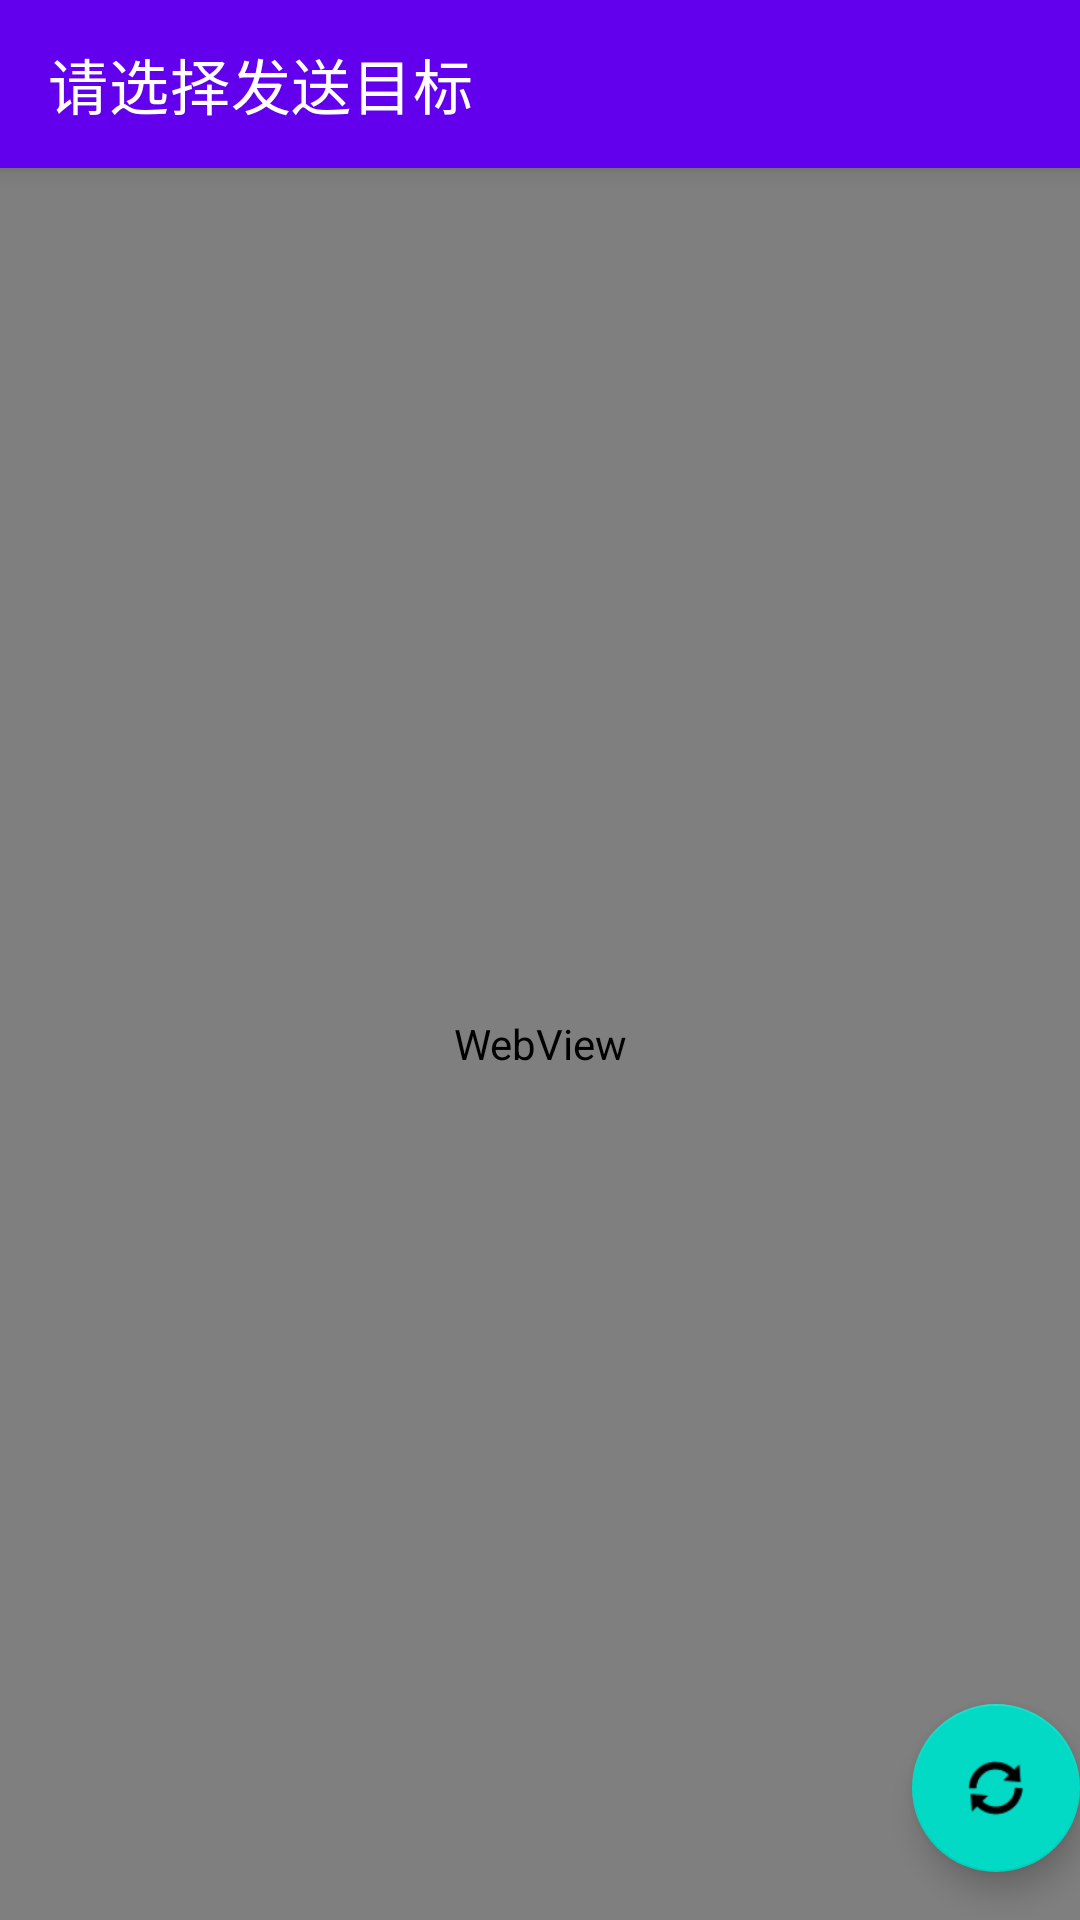

Icons on this 1080*1920 Android screen, each with the point to tap as (x,y):
popup sync: (996,1788)
